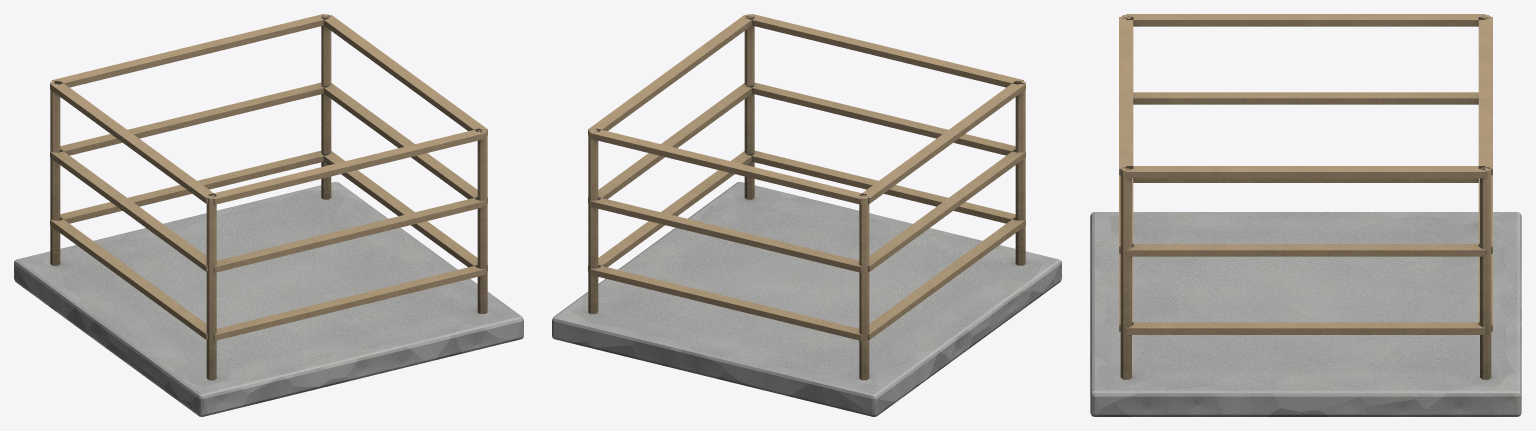
File: geruest.glb
3 renders of one model, left to right at view 1: azimuth 30°, elevation 25°; view 2: azimuth 150°, elevation 25°; view 3: azimuth 270°, elevation 25°, orthographic. The views are drawn at different scales.
Visible parts, largest first — view 1: geruest; view 2: geruest; view 3: geruest.
Boxes of the visible parts, x1,y1,x2,y2 form: geruest: (14,14,523,416); geruest: (552,14,1061,416); geruest: (1090,14,1521,416).
Size of the model in its own units: 0.6 by 0.36 by 0.6.
Materials: 1 (1 with a texture image).
